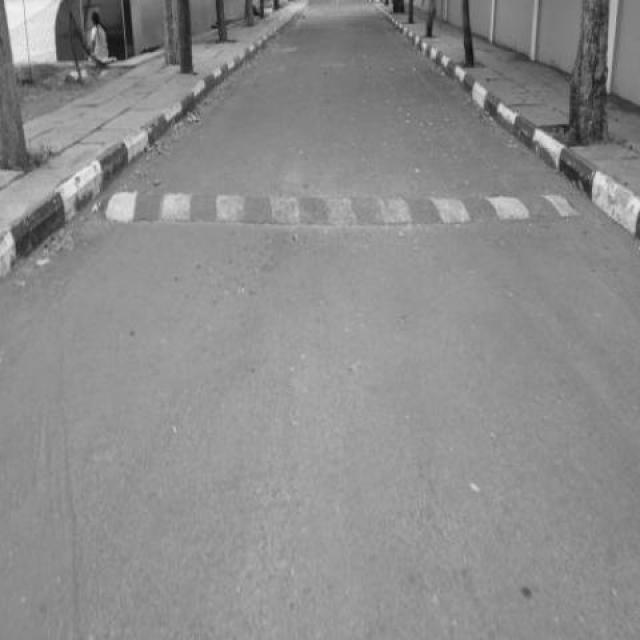Speed Bump: (99, 187, 582, 224)
